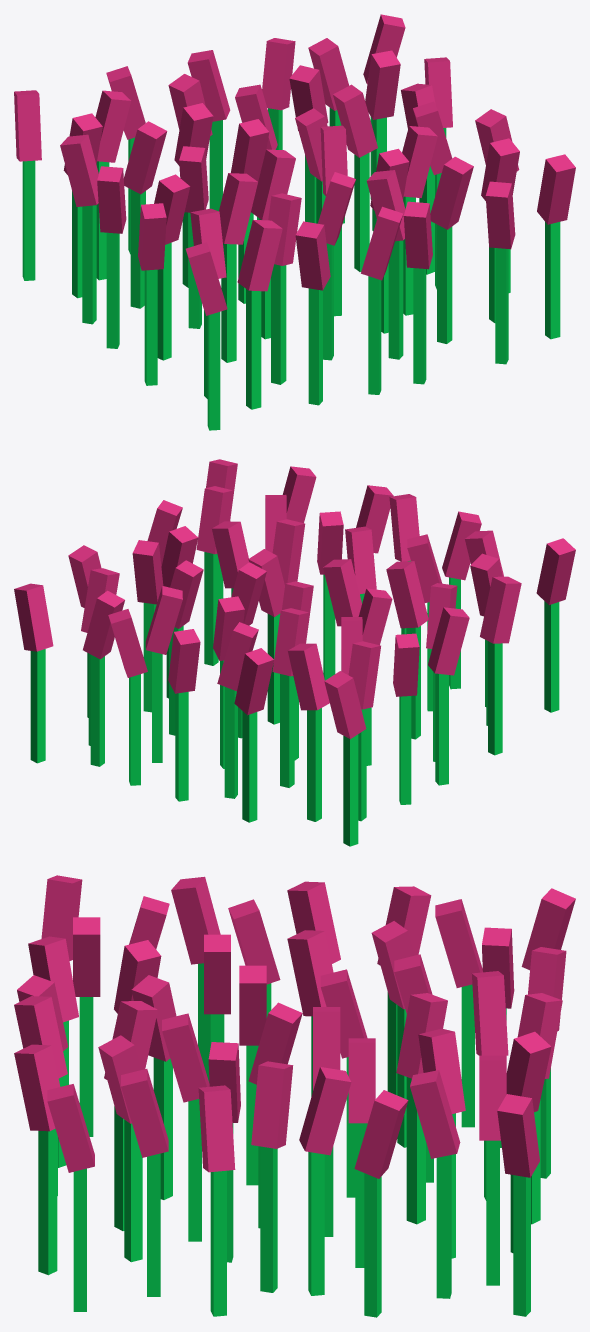
Rendered from FireweedFlowerPatch.fbx.
3 renders of one model, top to bottom at view 1: azimuth 30°, elevation 25°; view 2: azimuth 150°, elevation 25°; view 3: azimuth 270°, elevation 25°, orthographic. The views are drawn at different scales.
Visible parts, largest first — view 1: Cube.010; view 2: Cube.010; view 3: Cube.010.
Boxes of the visible parts, bbox=[...] form: Cube.010: bbox=[14, 14, 575, 430]; Cube.010: bbox=[14, 459, 575, 846]; Cube.010: bbox=[14, 875, 575, 1317].
Size of the model in its own units: 209 by 89.14 by 207.
